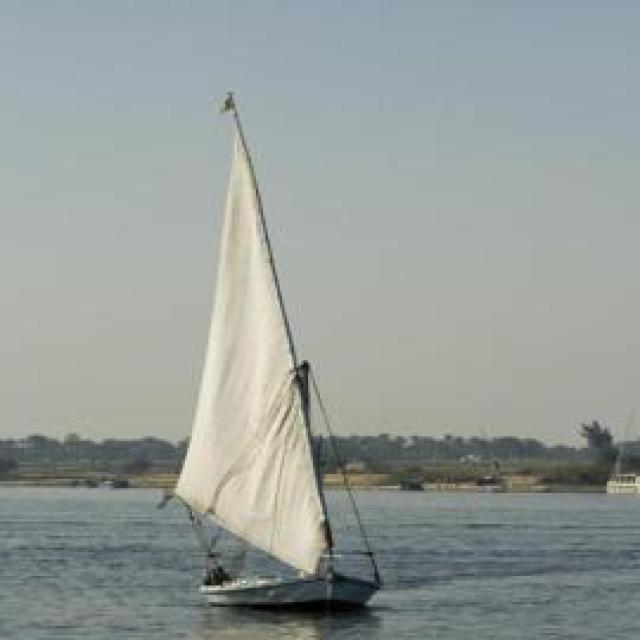sailboat: (172, 82, 386, 608)
